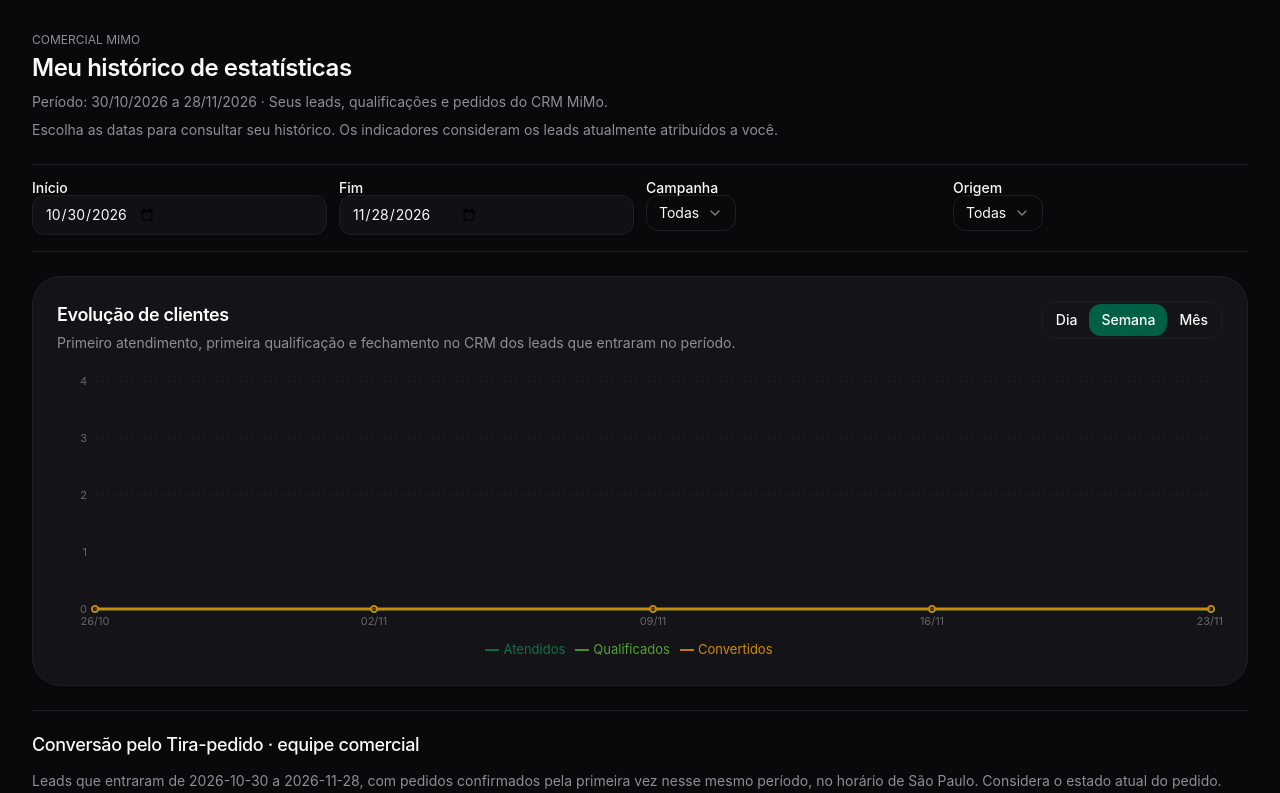
Scenario: exibe estatisticas pessoais e consulta historico por datas sem metricas gerais de midia
Later steps or results of the test are not shown.
Check: the heading "Meu histórico de estatísticas" is shown, box [32,53,352,82]
Check: the heading "Evolução de clientes" is shown, box [57,304,229,325]
Click the button "Mês" at point(1194, 320), box [1168,304,1220,336]
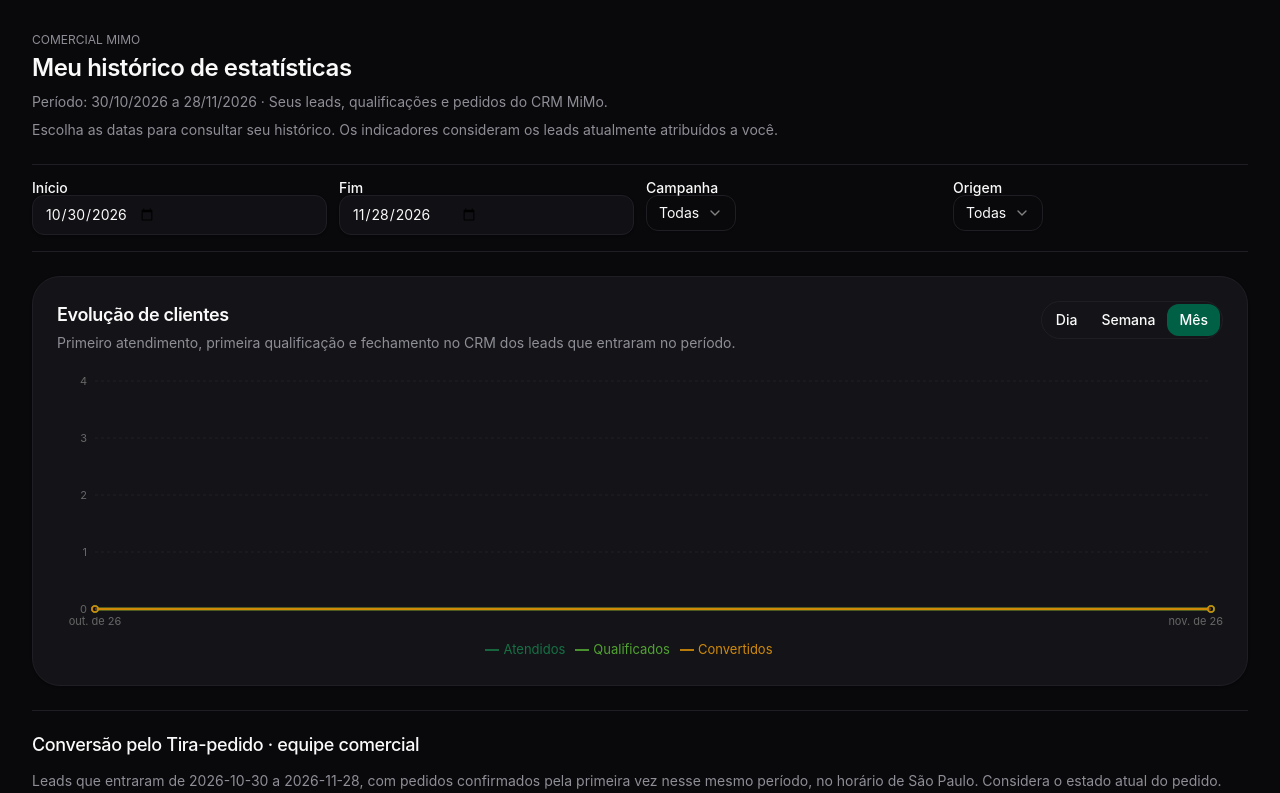
Check: the button "Mês" is pressed, box [1168,304,1220,336]
